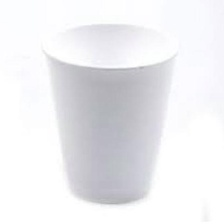paper_cup: (34, 17, 186, 208)
